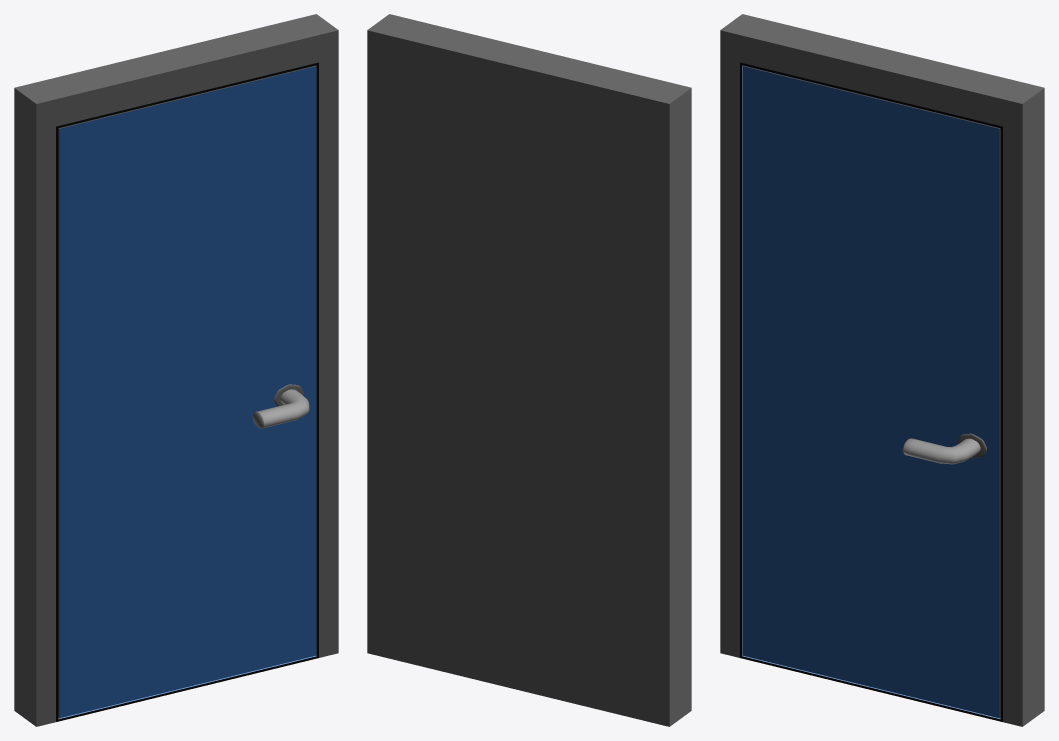
Rendered from 3d_door.fbx.
3 views of the same model, side by side, from view 1: azimuth 30°, elevation 25°; view 2: azimuth 150°, elevation 25°; view 3: azimuth 330°, elevation 25° (orthographic).
Parts seen in each view (by area): view 1: 3d_door; view 2: 3d_door; view 3: 3d_door.
Part boxes in pixels (x1=…): 3d_door: x1=14, y1=14, x2=338, y2=726; 3d_door: x1=367, y1=14, x2=691, y2=726; 3d_door: x1=720, y1=14, x2=1044, y2=726.
Bounding box in the file's own units: 1.02 × 2 × 0.2586.
